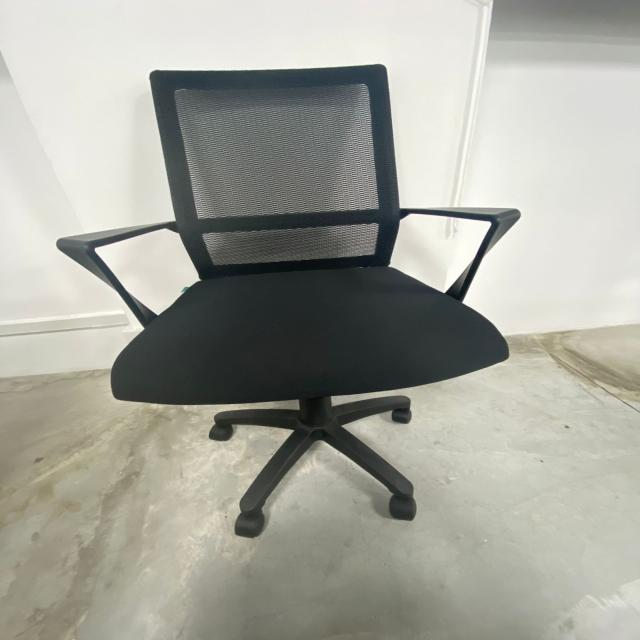bottle: (54, 60, 523, 544)
